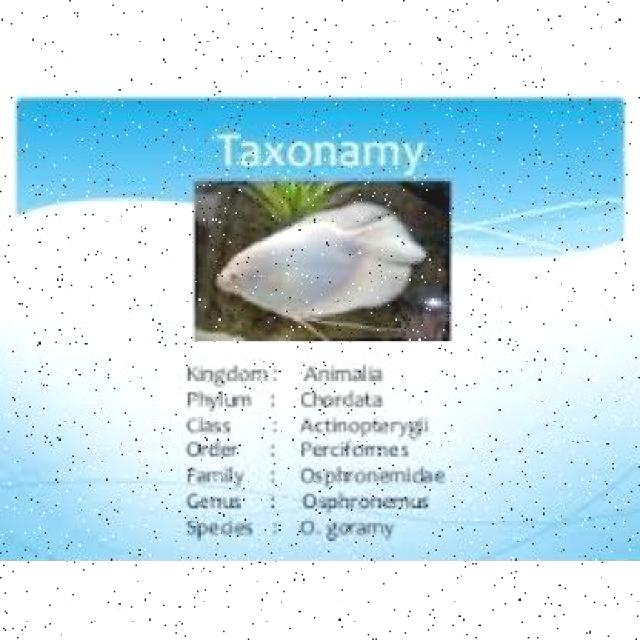gurame: (218, 203, 419, 323)
